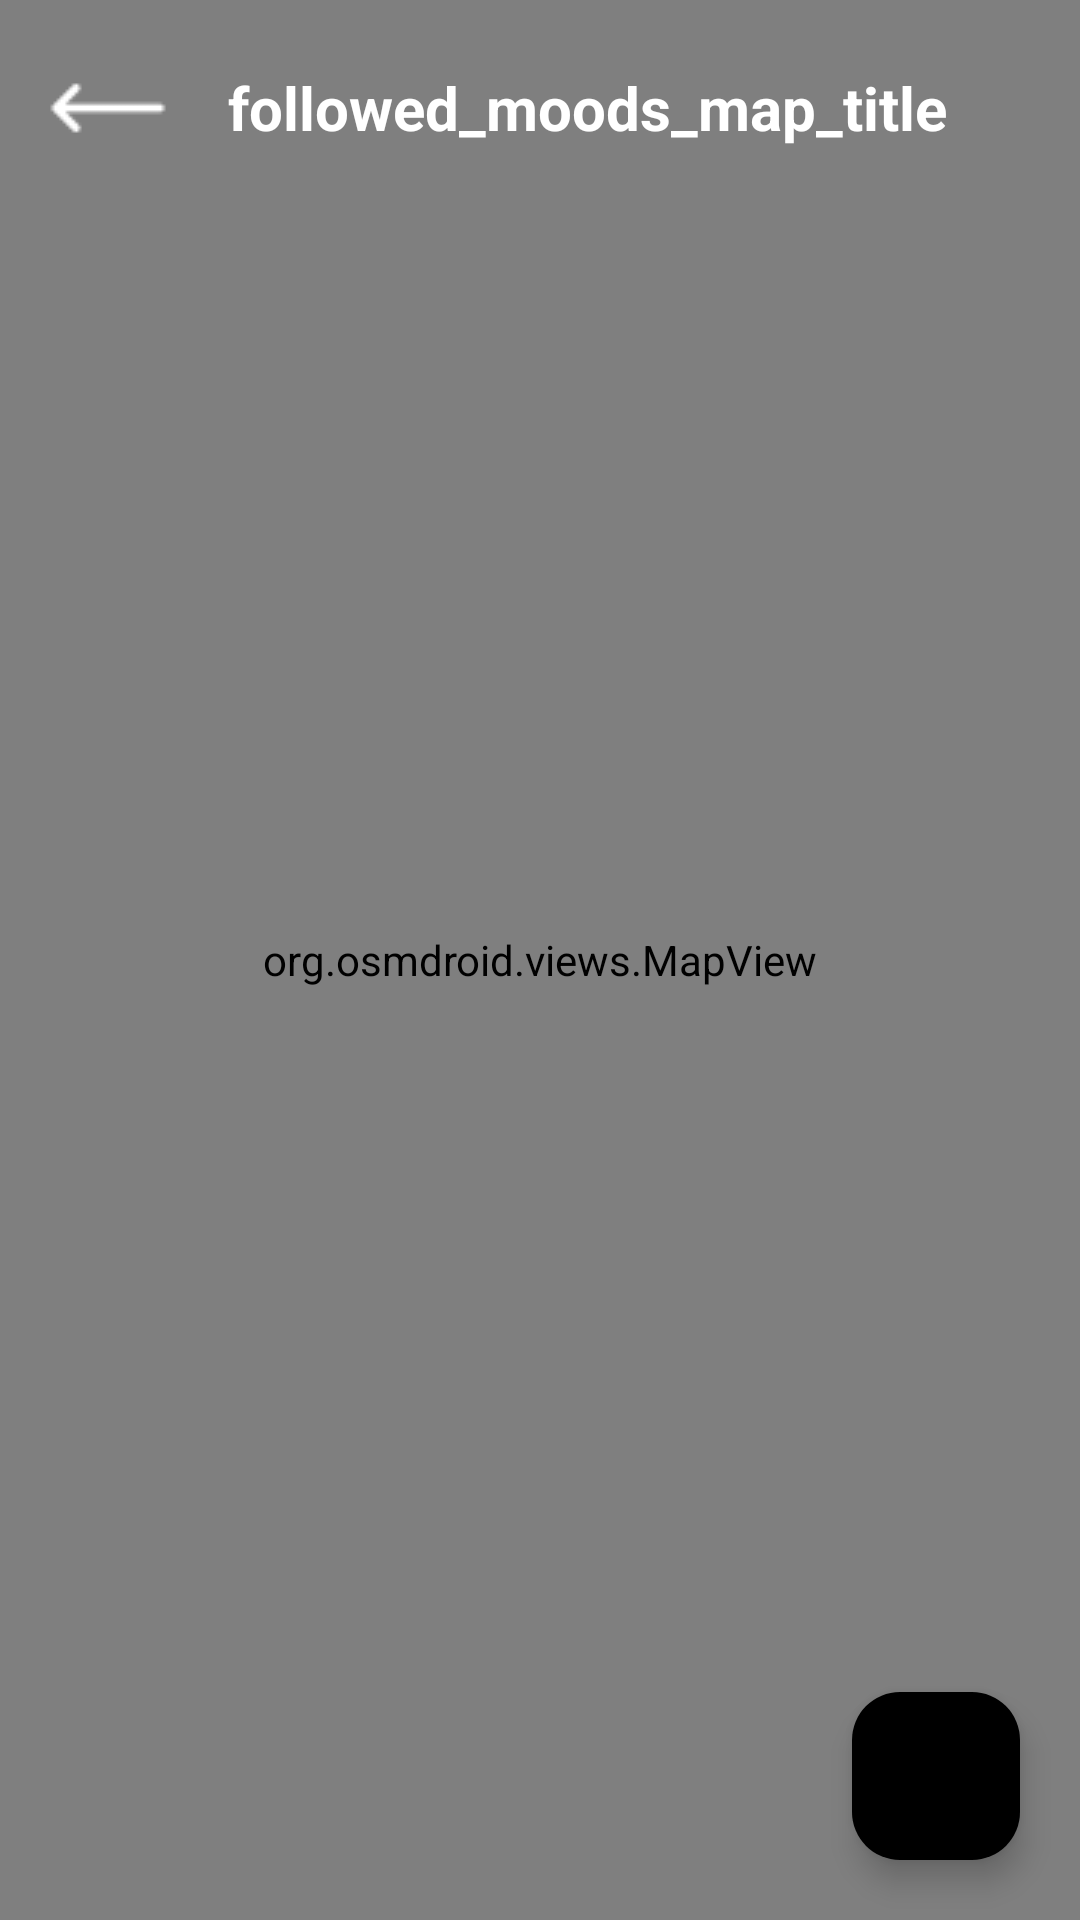

Screen size 1080×1920. Icon name, then its box in pixels as [x1, y1, x2, y2]:
back: [51, 83, 165, 133]
